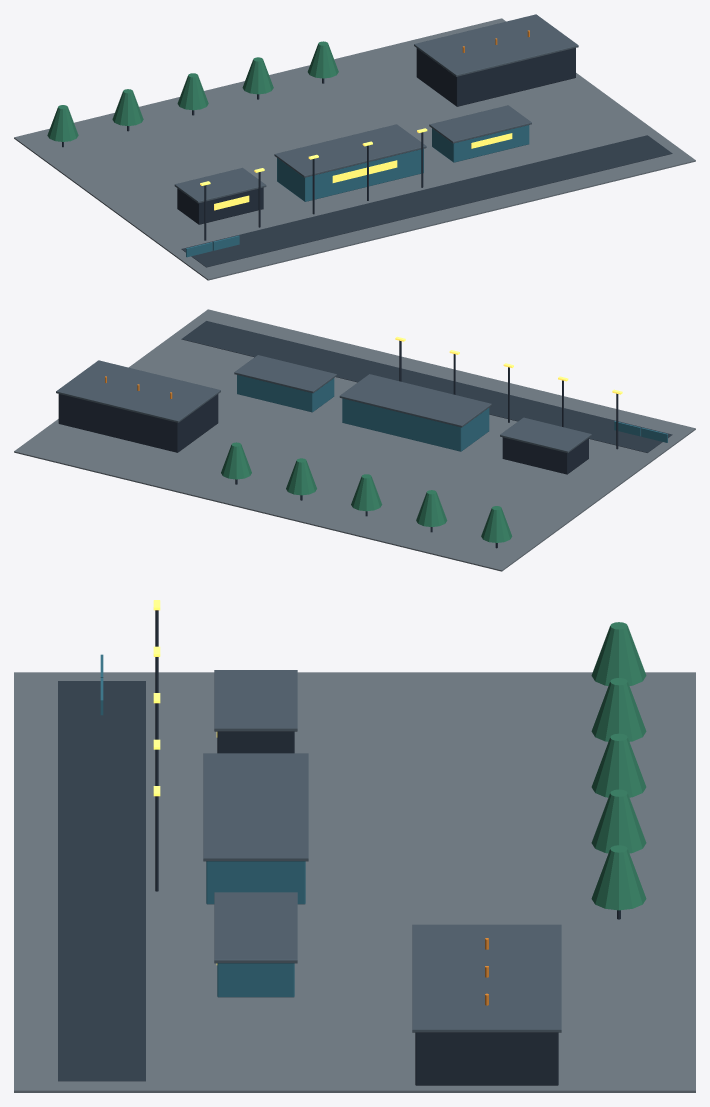
File: support-facilities-low.glb
3 renders of one model, top to bottom at view 1: azimuth 30°, elevation 25°; view 2: azimuth 150°, elevation 25°; view 3: azimuth 270°, elevation 25°, orthographic. The views are drawn at different scales.
Visible parts, largest first — view 1: support_ground, access_road, substation_roof, substation_body, rest_room_roof, rest_room_body, public_toilet_roof, guardhouse_roof, public_toilet_body, guardhouse_body, tree_canopy.003, tree_canopy.001 (+4 smaller); view 2: support_ground, access_road, substation_roof, substation_body, rest_room_roof, rest_room_body, public_toilet_roof, public_toilet_body, guardhouse_body, guardhouse_roof, tree_canopy.002, tree_canopy.001 (+3 smaller); view 3: support_ground, access_road, substation_roof, rest_room_roof, substation_body, public_toilet_roof, guardhouse_roof, rest_room_body, public_toilet_body, tree_canopy.004, tree_canopy.003, tree_canopy.002 (+3 smaller).
Part boxes in pixels (x1,y1,x2,y2): support_ground: (14,18,695,280); access_road: (181,135,672,267); substation_roof: (414,14,578,76); substation_body: (416,48,575,106); rest_room_roof: (274,124,426,177); rest_room_body: (277,148,423,201); public_toilet_roof: (429,105,531,143); guardhouse_roof: (174,167,266,203); public_toilet_body: (432,125,529,162); guardhouse_body: (177,187,263,224); tree_canopy.003: (242,57,273,94); tree_canopy.001: (112,89,143,125); support_ground: (14,309,695,571); access_road: (181,321,672,452); substation_roof: (56,360,220,422); substation_body: (58,394,218,452); rest_room_roof: (339,374,491,427); rest_room_body: (342,398,489,451); public_toilet_roof: (234,355,336,393); public_toilet_body: (237,375,334,412); guardhouse_body: (502,437,588,474); guardhouse_roof: (500,417,591,452); tree_canopy.002: (351,474,382,511); tree_canopy.001: (416,490,447,526); support_ground: (14,672,695,1092); access_road: (58,681,145,1081); substation_roof: (412,924,561,1032); rest_room_roof: (203,753,308,861); substation_body: (415,1032,558,1085); public_toilet_roof: (214,892,297,963); guardhouse_roof: (214,670,297,731); rest_room_body: (206,861,305,904); public_toilet_body: (217,963,294,997); tree_canopy.004: (591,845,646,910); tree_canopy.003: (591,789,646,853); tree_canopy.002: (591,733,646,797).
Size of the model in its own units: 90 by 10.38 by 62.
